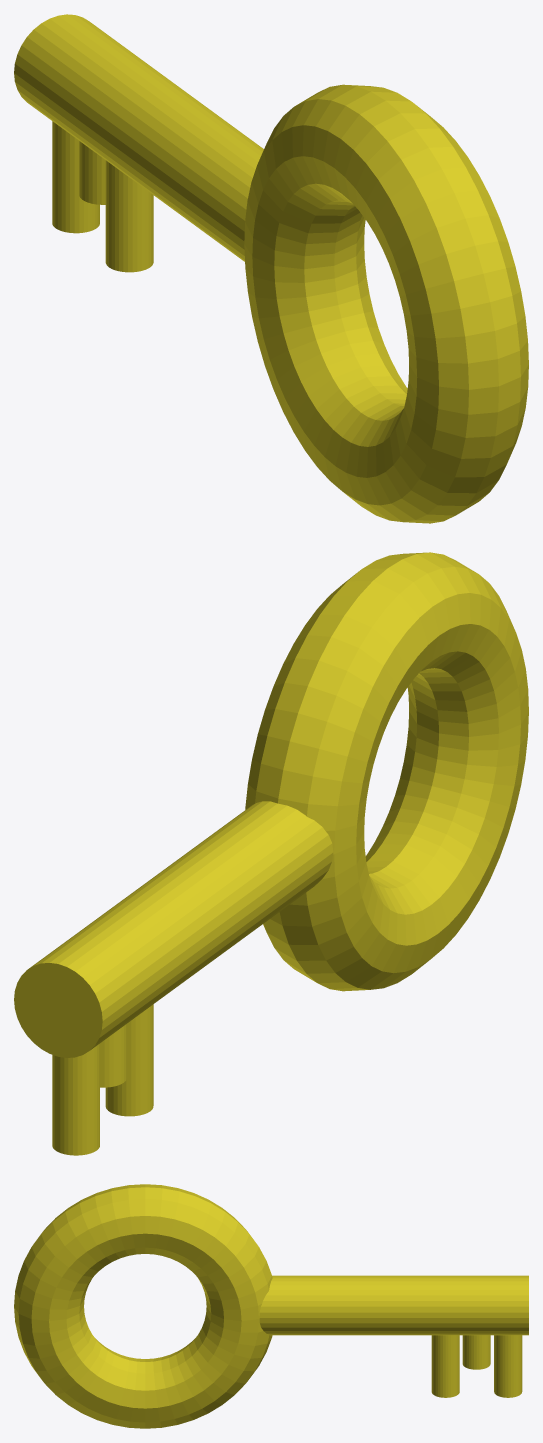
File: Key.fbx
The picture shows the model from 3 angles, top to bottom: view 1: azimuth 30°, elevation 25°; view 2: azimuth 150°, elevation 25°; view 3: azimuth 270°, elevation 25°; orthographic projection. The views are drawn at different scales.
Parts seen in each view (by area): view 1: Key; view 2: Key; view 3: Key.
Boxes of the visible parts, x1=… form: Key: x1=14, y1=14, x2=528, y2=523; Key: x1=14, y1=552, x2=528, y2=1155; Key: x1=14, y1=1184, x2=528, y2=1428.
Bounding box in the file's own units: 40.52 × 150 × 294.
